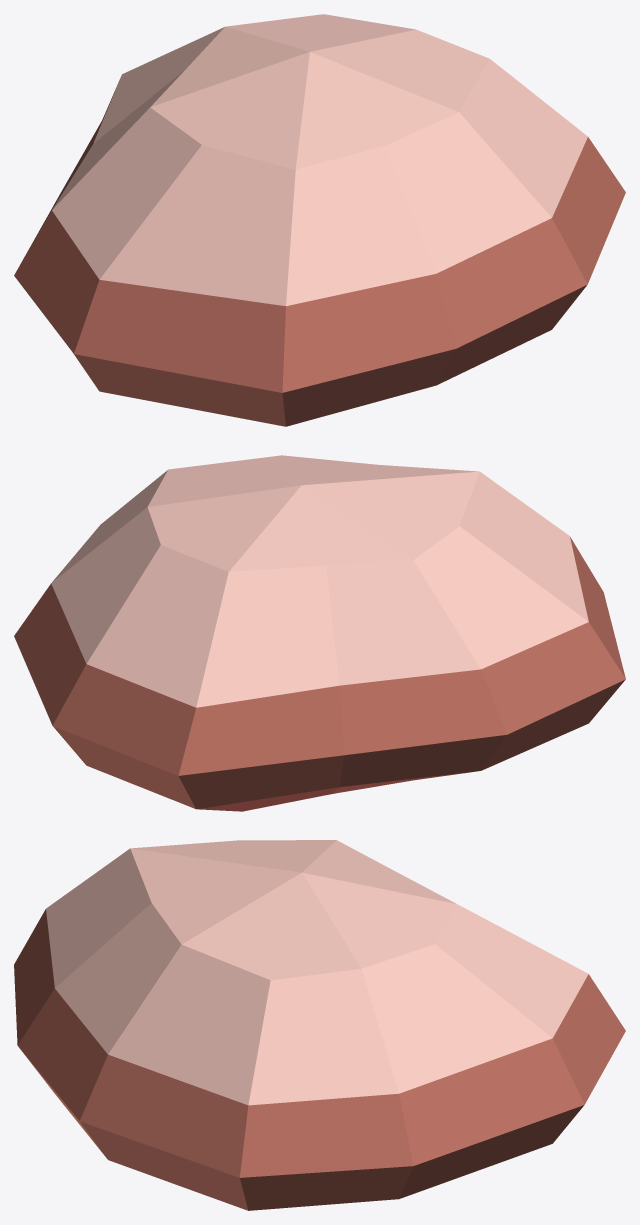
The model's file is Feuillage 016.fbx.
3 views of the same model, one above another, from view 1: azimuth 30°, elevation 25°; view 2: azimuth 150°, elevation 25°; view 3: azimuth 270°, elevation 25° (orthographic). The views are drawn at different scales.
Visible parts, largest first — view 1: Feuillage 016; view 2: Feuillage 016; view 3: Feuillage 016.
Part boxes in pixels (x1,y1,x2,y2): Feuillage 016: [14, 14, 625, 426]; Feuillage 016: [14, 455, 625, 811]; Feuillage 016: [14, 840, 625, 1210].
Size of the model in its own units: 21.07 by 9.8 by 20.42.
